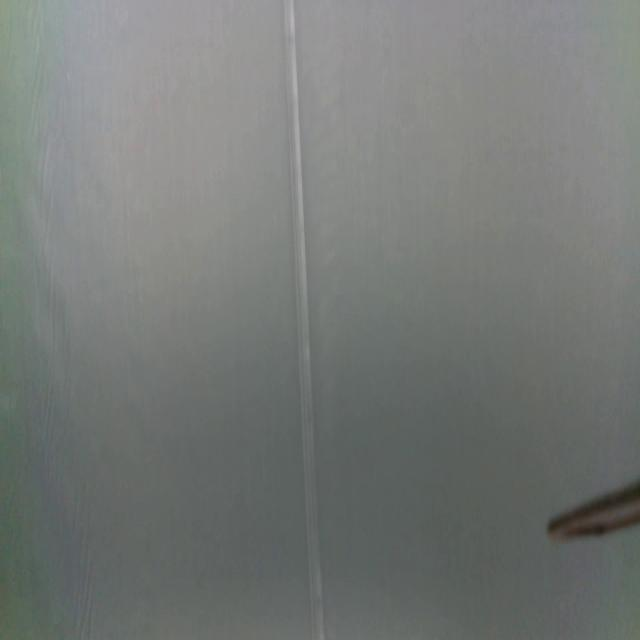crease: (284, 0, 324, 640)
